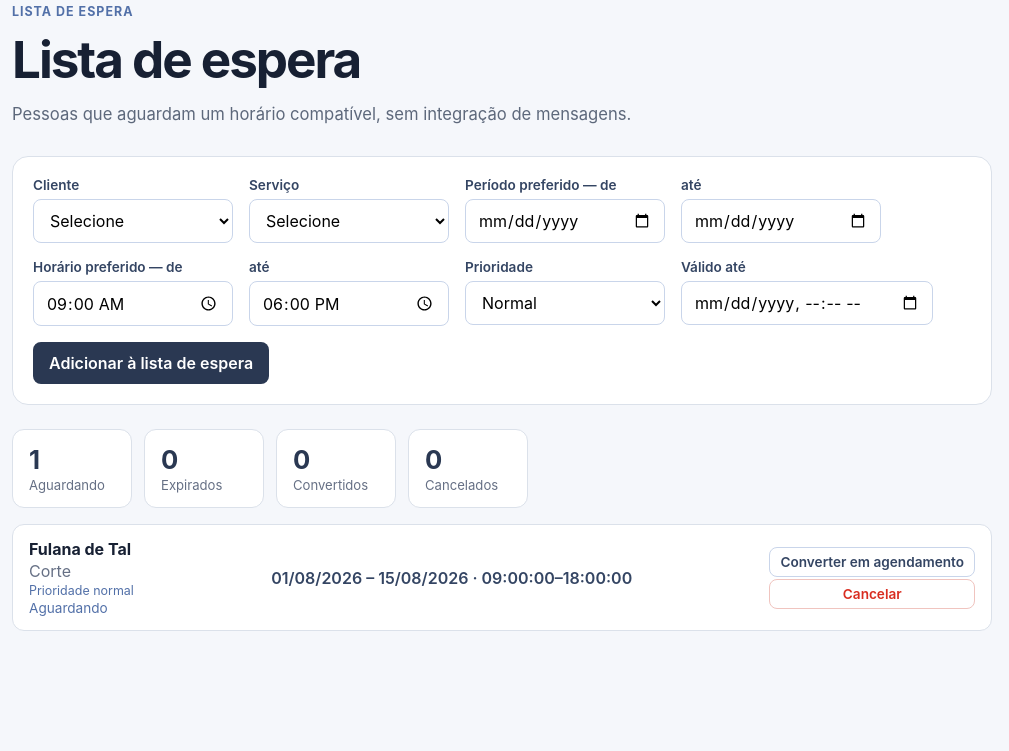
it: WaitlistPageComponent › converts a waitlist entry into an appointment computing the end time from the service duration
Click the button with class "link-button" showing "Converter em agendamento".
click(872, 562)  # box [770,547,975,577]
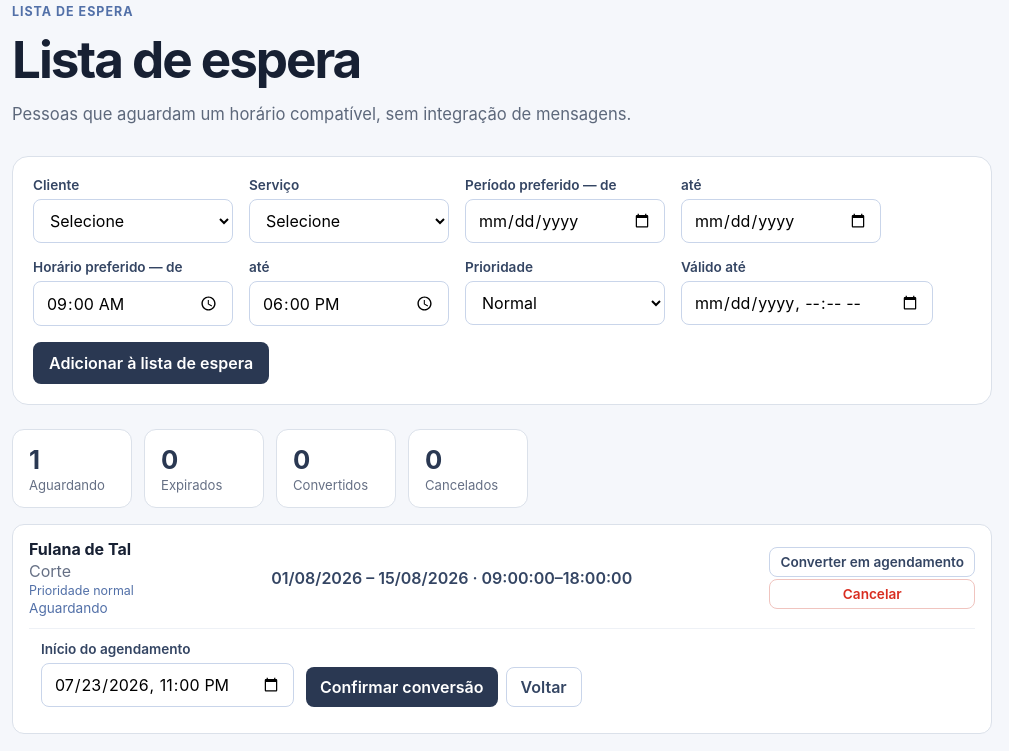
Replace the text in the field named "startAt" with "2026-08-05T10:00" at (168, 685), box [41,663,294,707]
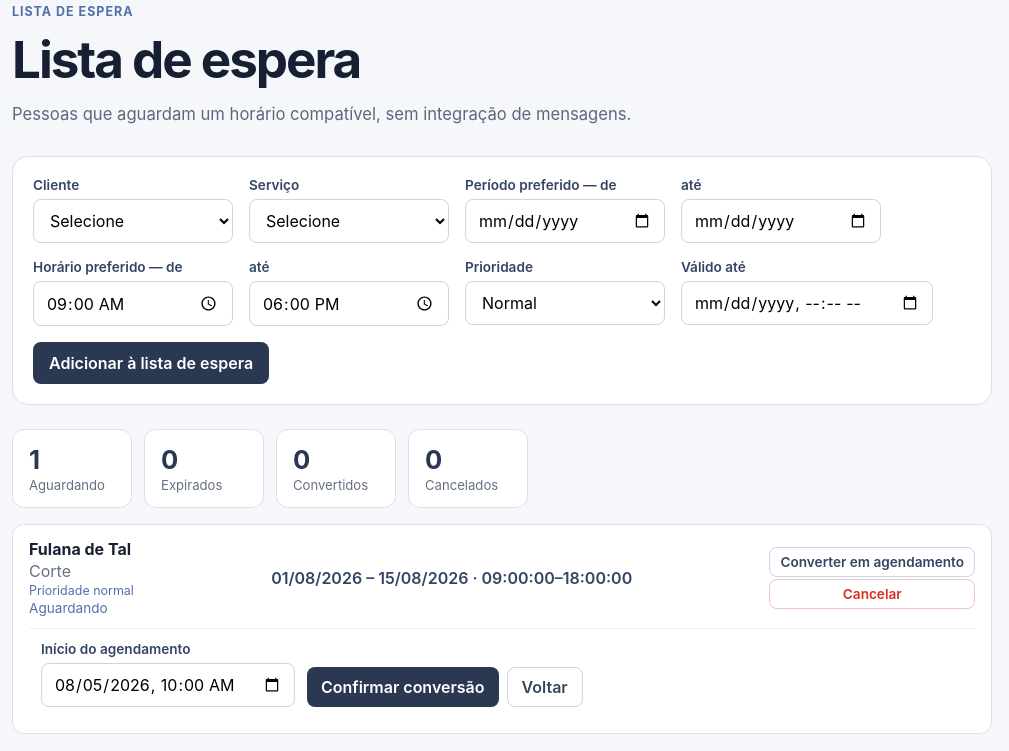
Submit the form with class "row-form", box [29,628,975,719]
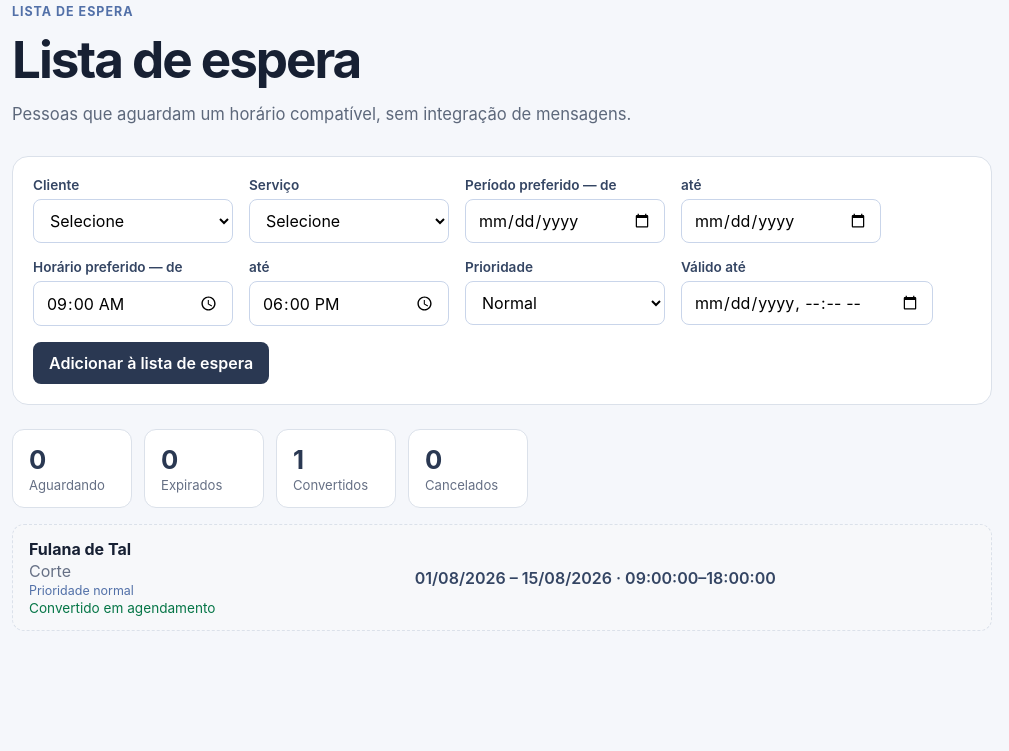
Expected: the text "Convertido em agendamento" is shown, [29,600,216,616]
